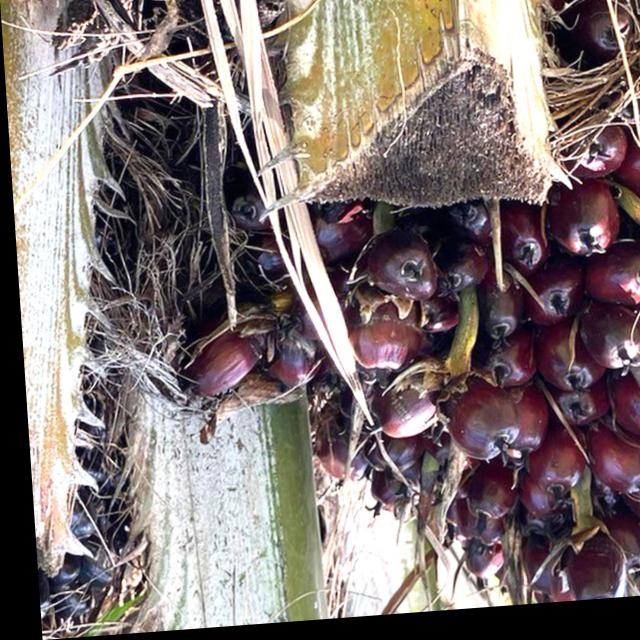ripe: (132, 0, 640, 632)
